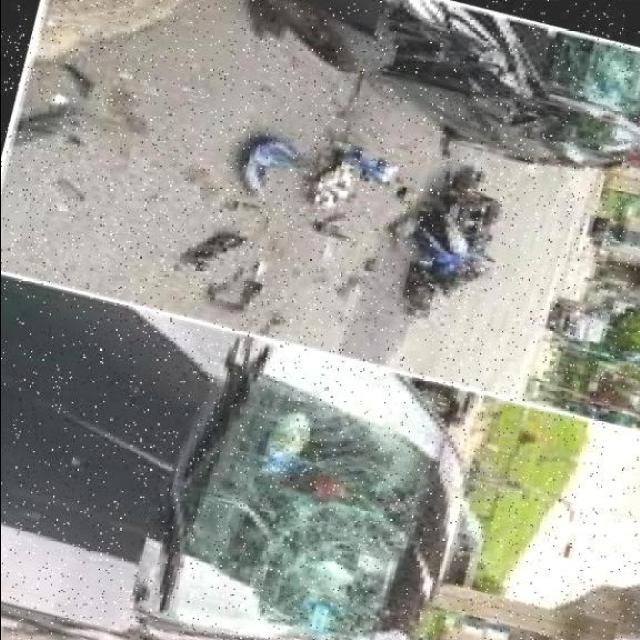accident: (118, 364, 506, 640), (222, 0, 640, 203), (340, 141, 544, 332)
